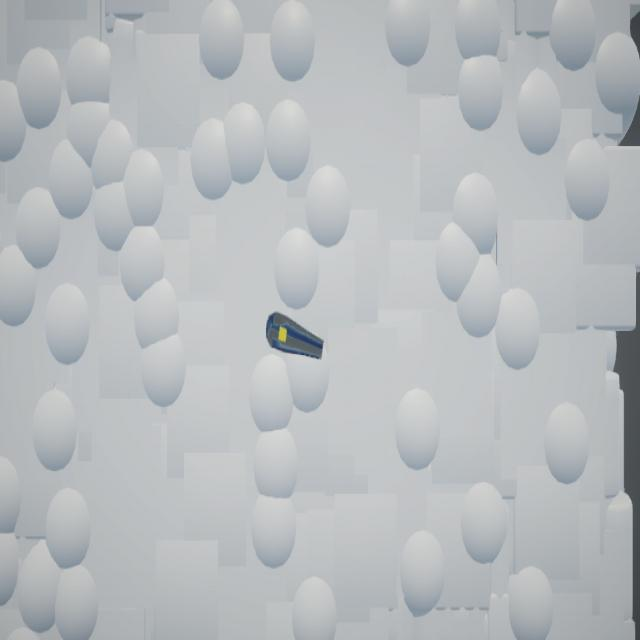handle_knife: (267, 312, 325, 361)
